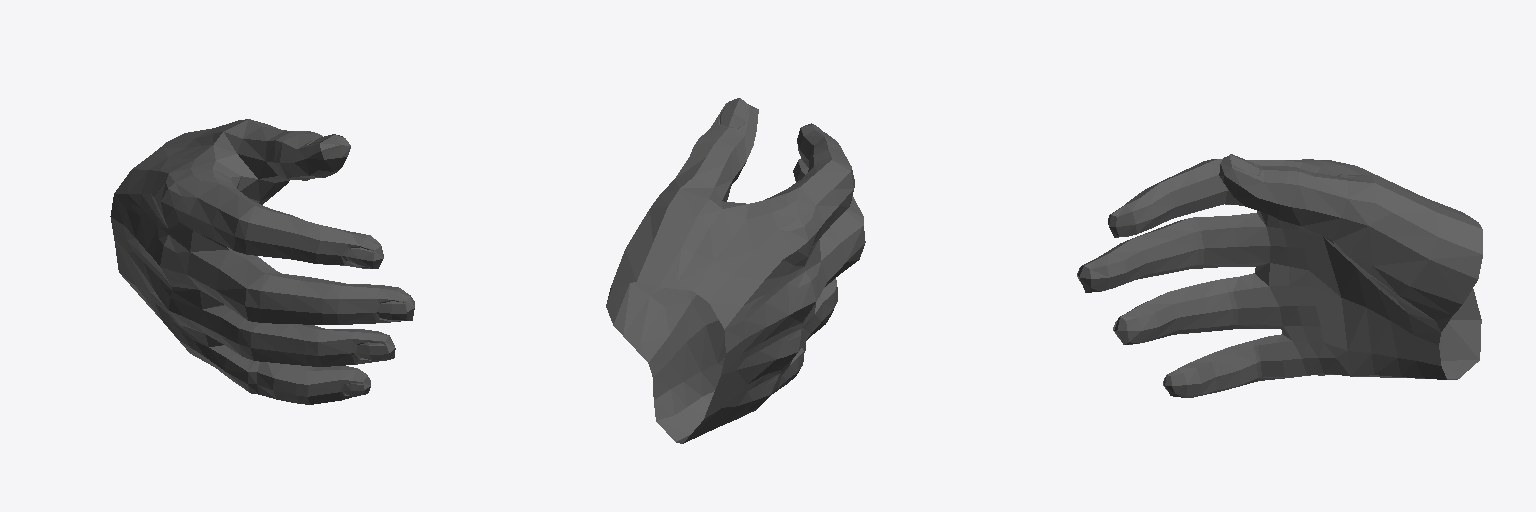
The model's file is r_hand.obj.
3 views of the same model, side by side, from view 1: azimuth 30°, elevation 25°; view 2: azimuth 150°, elevation 25°; view 3: azimuth 270°, elevation 25° (orthographic).
Visible parts, largest first — view 1: zoey_color_bmp_003_zoey_color_bmp.003; view 2: zoey_color_bmp_003_zoey_color_bmp.003; view 3: zoey_color_bmp_003_zoey_color_bmp.003.
Boxes of the visible parts, x1,y1,x2,y2 form: zoey_color_bmp_003_zoey_color_bmp.003: [110, 119, 414, 404]; zoey_color_bmp_003_zoey_color_bmp.003: [606, 98, 865, 443]; zoey_color_bmp_003_zoey_color_bmp.003: [1077, 154, 1482, 397].
Bounding box in the file's own units: 2.4 × 4.04 × 5.85.